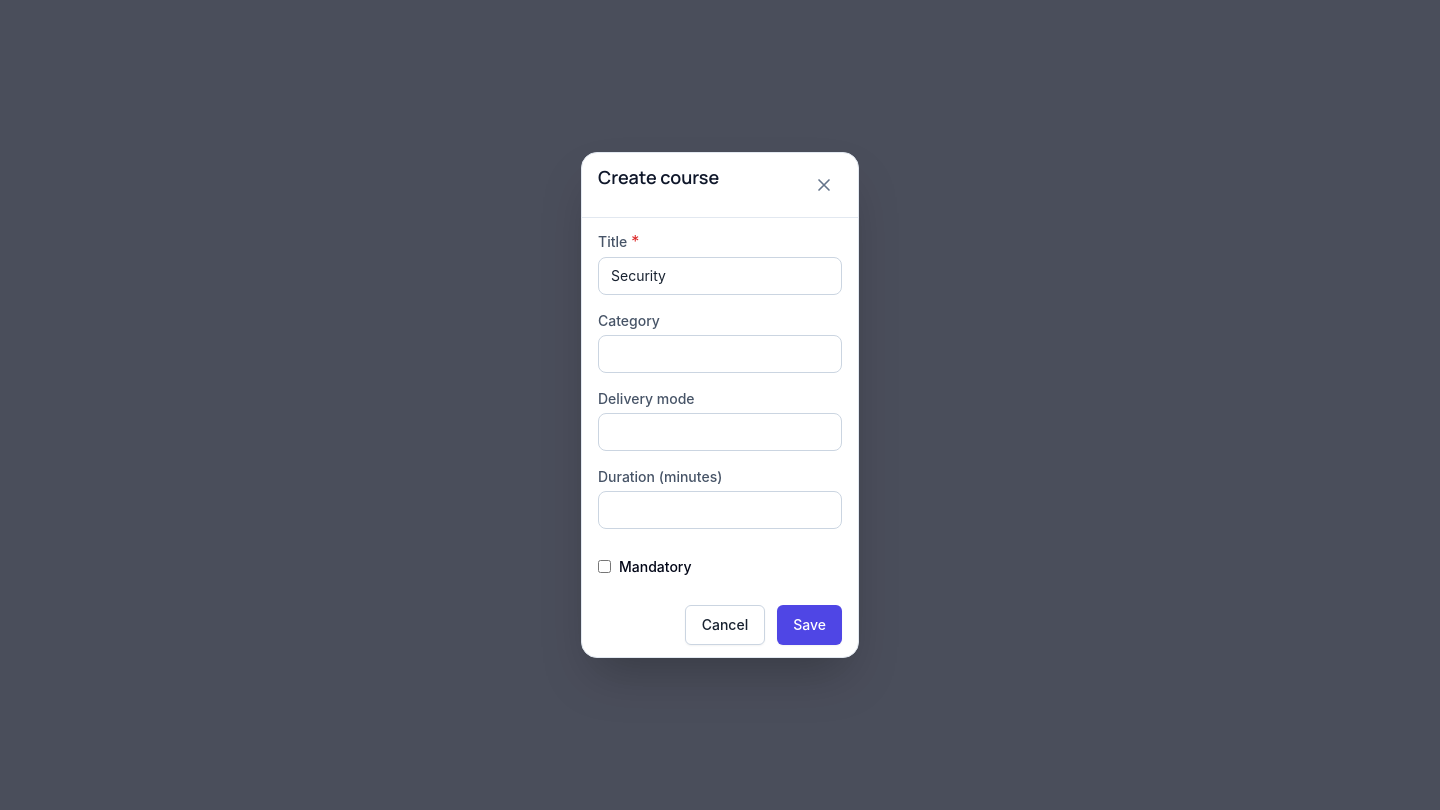
Test: disables save and cancellation while the request is pending
Click the button "Save" at (810, 625), box top-left (777, 605), bottom-right (842, 645)
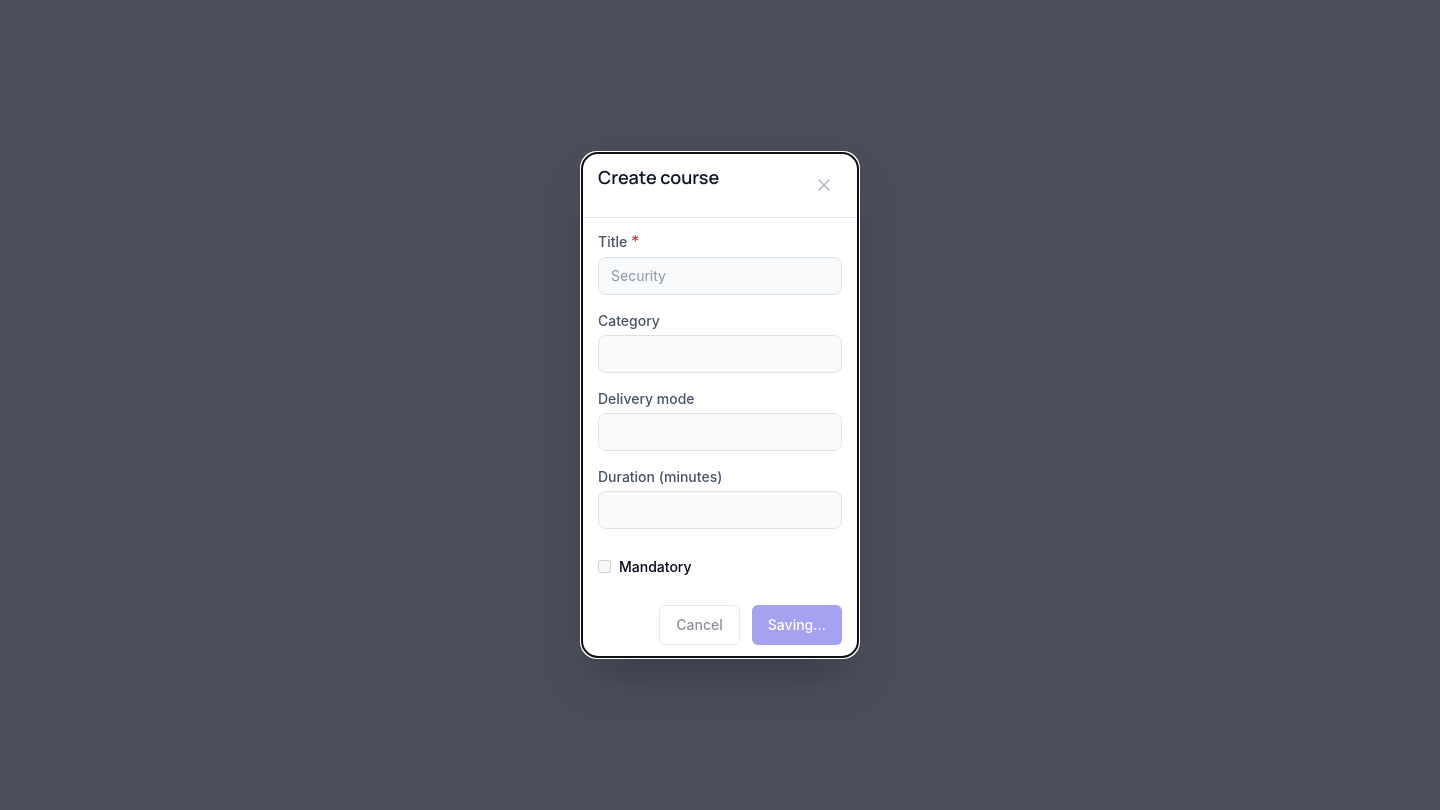
Expected: the button "Saving..." is disabled, top-left (752, 605), bottom-right (842, 645)
Expected: the button "Cancel" is disabled, top-left (659, 605), bottom-right (740, 645)
